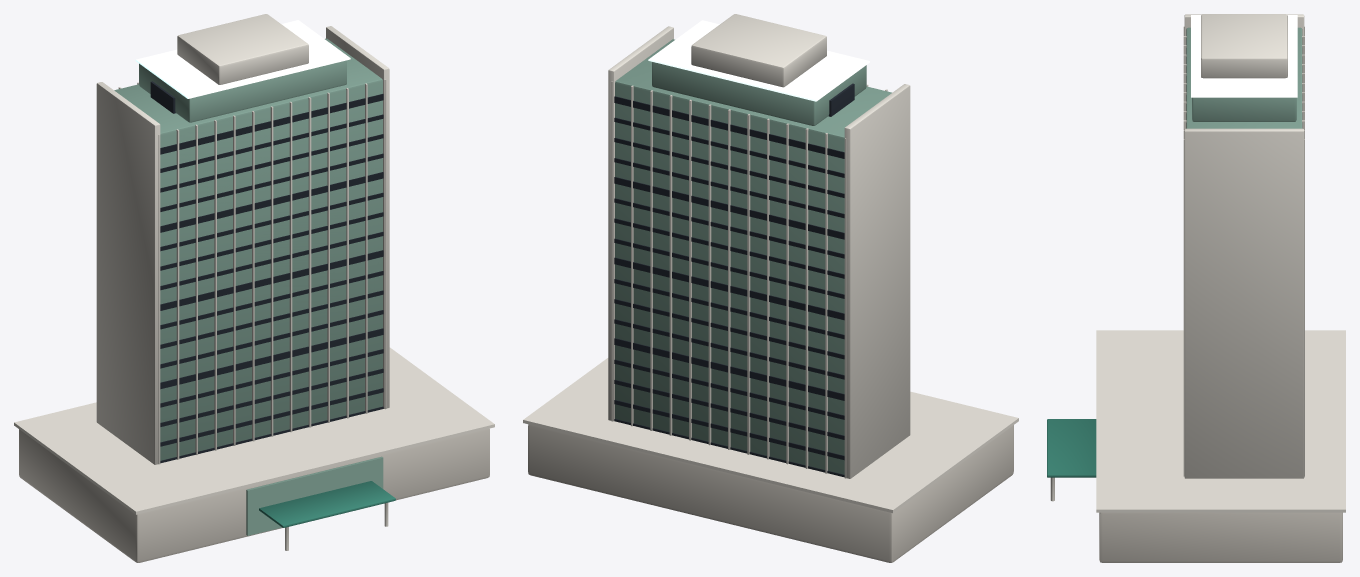
Rendered from hotel-osaka.glb.
The picture shows the model from 3 angles, left to right: view 1: azimuth 30°, elevation 25°; view 2: azimuth 150°, elevation 25°; view 3: azimuth 270°, elevation 25°; orthographic projection. The views are drawn at different scales.
Parts seen in each view (by area): view 1: LOD0_Fin, LOD0_Facade, LOD0_Spandrel, LOD0_Stone, LOD1_Facade, LOD0_CrownGlow, LOD1_Spandrel, LOD0_Accent; view 2: LOD0_Fin, LOD0_Facade, LOD0_Stone, LOD0_Spandrel, LOD1_Spandrel, LOD0_CrownGlow, LOD1_Facade; view 3: LOD0_Fin, LOD0_Stone, LOD0_Facade, LOD0_CrownGlow, LOD0_Accent, LOD1_Facade, LOD1_Fin.
Boxes of the visible parts, x1,y1,x2,y2 form: LOD0_Fin: [14, 14, 494, 550]; LOD0_Facade: [114, 38, 383, 535]; LOD0_Spandrel: [150, 82, 383, 463]; LOD0_Stone: [19, 428, 489, 562]; LOD1_Facade: [117, 40, 382, 400]; LOD0_CrownGlow: [135, 20, 350, 98]; LOD1_Spandrel: [151, 81, 383, 462]; LOD0_Accent: [259, 481, 395, 527]; LOD0_Fin: [523, 14, 1018, 513]; LOD0_Facade: [615, 39, 891, 474]; LOD0_Stone: [528, 424, 1013, 562]; LOD0_Spandrel: [614, 84, 854, 477]; LOD1_Spandrel: [614, 83, 853, 476]; LOD0_CrownGlow: [648, 20, 869, 101]; LOD1_Facade: [619, 40, 889, 135]; LOD0_Fin: [1050, 14, 1345, 512]; LOD0_Stone: [1099, 512, 1342, 562]; LOD0_Facade: [1186, 27, 1302, 128]; LOD0_CrownGlow: [1191, 15, 1297, 97]; LOD0_Accent: [1047, 419, 1096, 477]; LOD1_Facade: [1188, 28, 1301, 128]; LOD1_Fin: [1202, 60, 1284, 77].
Size of the model in its own units: 73 by 83.6 by 51.5.
